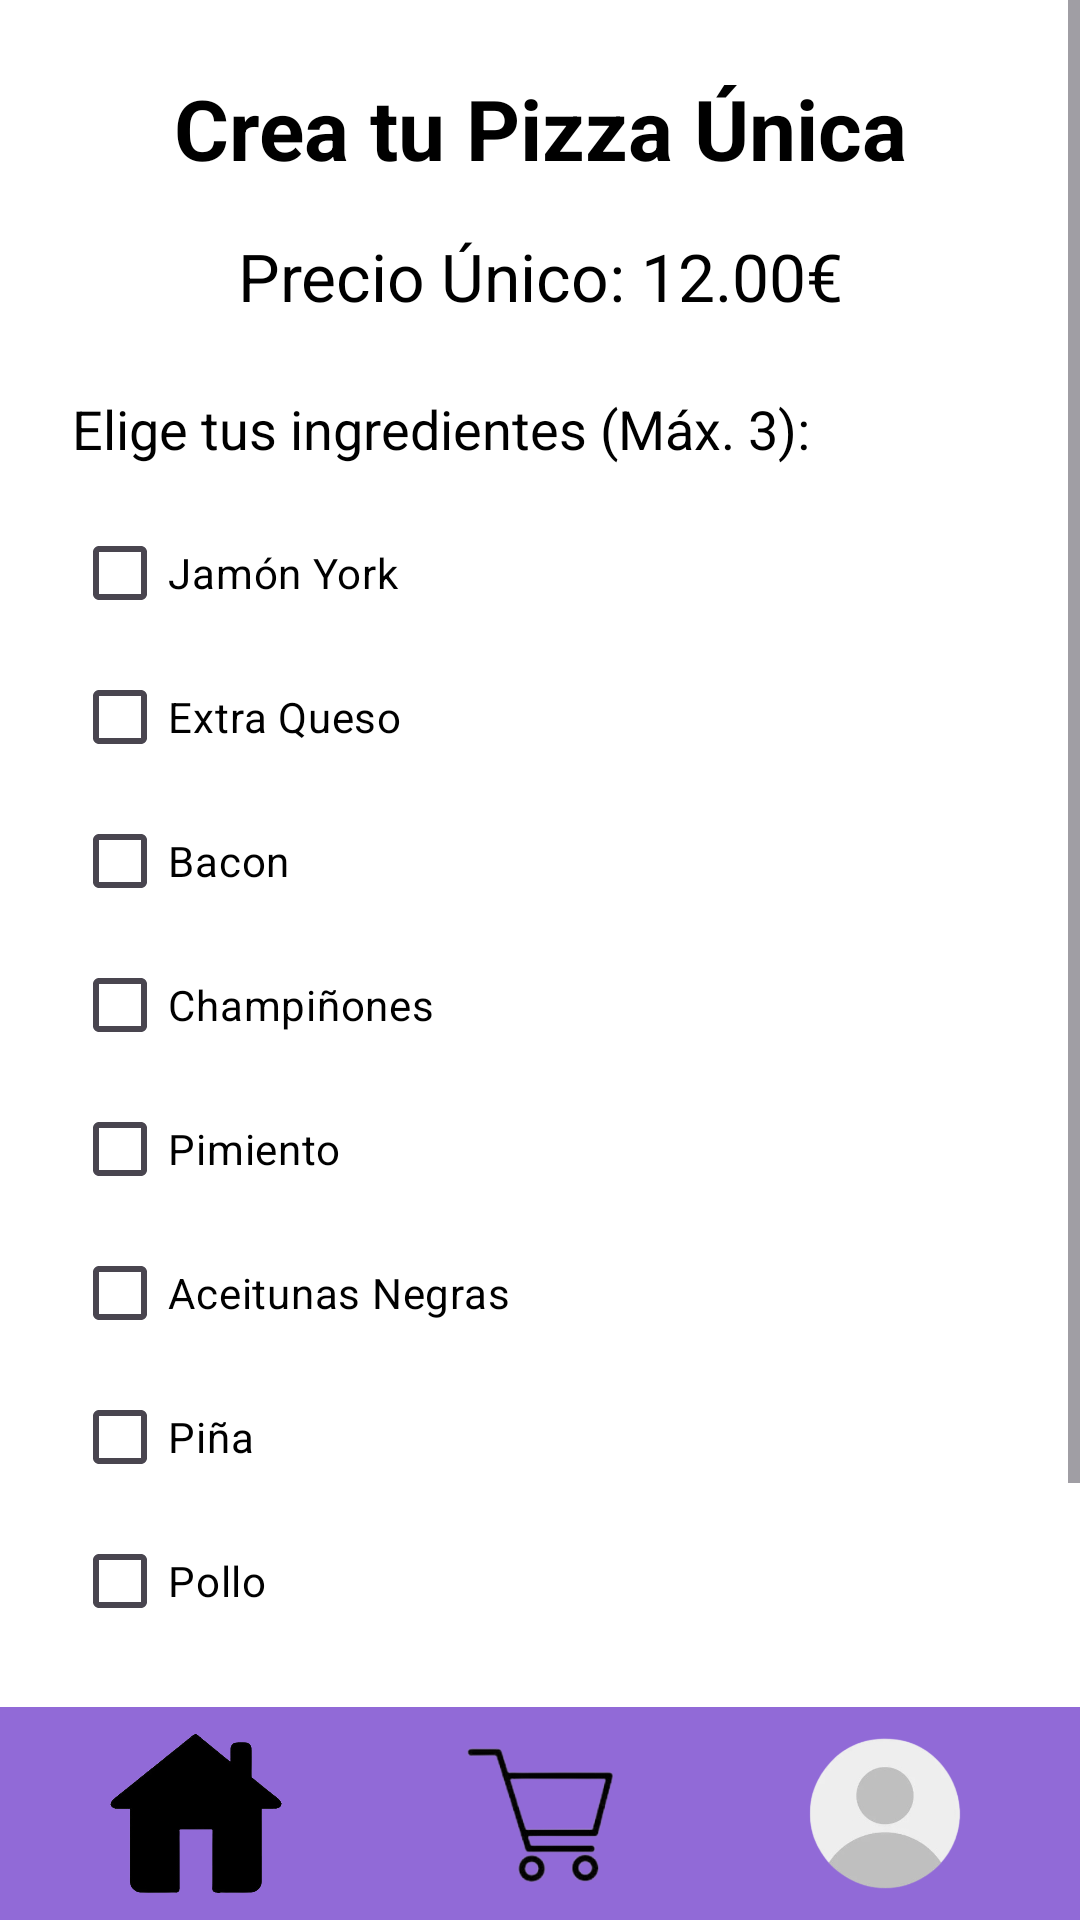

Icon click points for this 1080 × 1920 phone screenshot, format (x,y):
carrito: (540,1815)
casa: (196,1813)
perfil: (885,1813)
